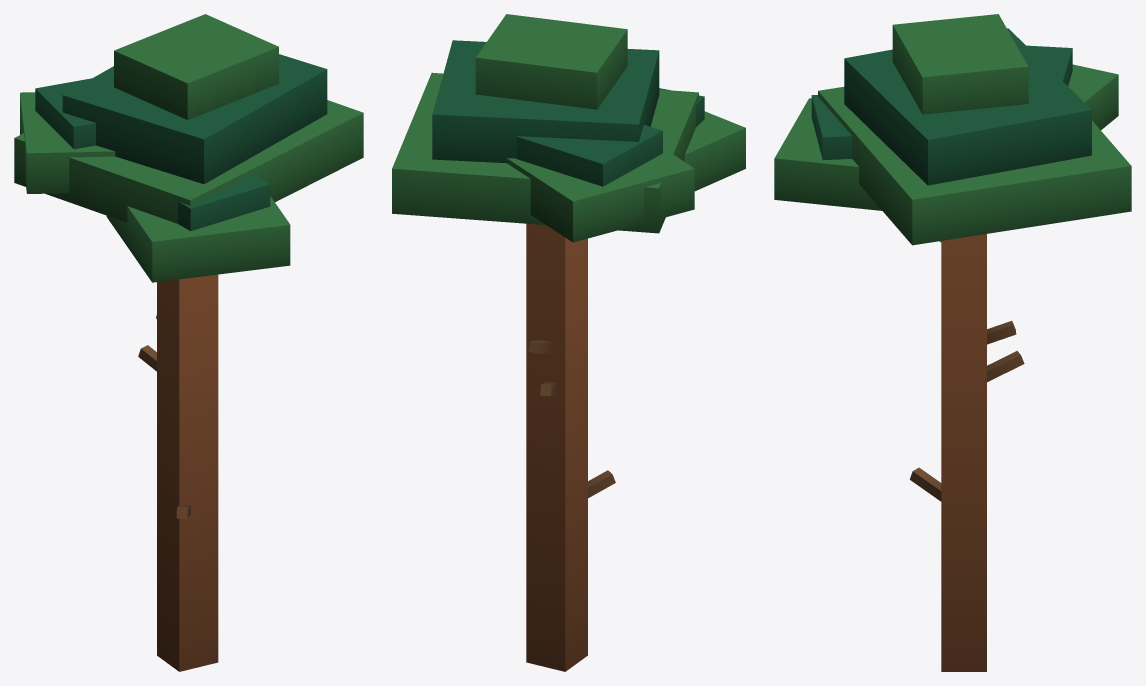
The model's file is A04_pine.glb.
3 renders of one model, left to right at view 1: azimuth 30°, elevation 25°; view 2: azimuth 150°, elevation 25°; view 3: azimuth 270°, elevation 25°, orthographic.
Visible parts, largest first — view 1: A04_pine; view 2: A04_pine; view 3: A04_pine.
Part boxes in pixels (bbox=[...]): A04_pine: bbox=[14, 14, 363, 671]; A04_pine: bbox=[392, 14, 745, 671]; A04_pine: bbox=[774, 14, 1131, 671].
Bounding box in the file's own units: 3.84 × 7.47 × 3.9.
